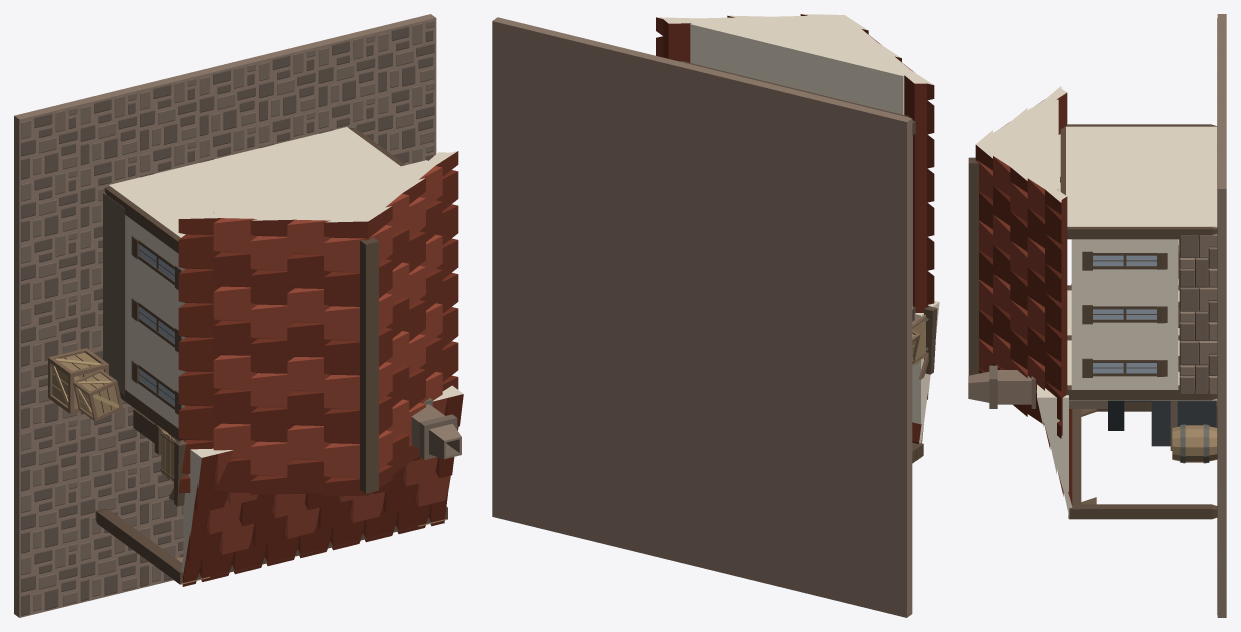
File: blacksmith.obj
The picture shows the model from 3 angles, left to right: view 1: azimuth 30°, elevation 25°; view 2: azimuth 150°, elevation 25°; view 3: azimuth 270°, elevation 25°; orthographic projection. The views are drawn at different scales.
Parts seen in each view (by area): view 1: Roof_Straight_Side_Eave_7, Roof_Straight_Side_Eave_5, Roof_Straight_Side_Eave_3, Roof_Straight_Side_Eave_1, Roof_Straight_Side_Eave_6, Roof_Straight_Side_Eave_8, Roof_Straight_Side_Eave_4, Roof_Straight_Side_Eave_2, Roof_Straight_Side_Eave_11, Stone_Floor_1_7, Roof_Straight_Side_Eave_9, Stone_Floor_1_55 (+53 smaller); view 2: Roof_Straight_Side_Eave_7, Roof_Straight_Side_Eave_6, Stone_Floor_1_7, Stone_Floor_1_0, Stone_Floor_1_1, Stone_Floor_1_2, Stone_Floor_1_3, Stone_Floor_1_4, Stone_Floor_1_5, Stone_Floor_1_6, Stone_Floor_1_15, Stone_Floor_1_31 (+50 smaller); view 3: Roof_Straight_Side_Eave_6, Stucco_Window_Single_Wide_4, Roof_Straight_Side_Eave_2, Roof_Straight_Side_Eave_4, Stucco_Window_Single_Wide_3, Stucco_Window_Single_Wide_5, Roof_Straight_Side_Eave_0, Roof_Straight_Side_Eave_7, Roof_Prop_Chimney_Stone_0, Wood_Post_Large_7, Stone_Wall_1_4, Roof_Straight_Side_Eave_11 (+36 smaller).
Boxes of the visible parts, x1,y1,x2,y2 form: Roof_Straight_Side_Eave_7: (178, 186, 368, 290); Roof_Straight_Side_Eave_5: (178, 286, 359, 359); Roof_Straight_Side_Eave_3: (178, 355, 359, 427); Roof_Straight_Side_Eave_1: (178, 423, 368, 496); Roof_Straight_Side_Eave_6: (320, 151, 458, 282); Roof_Straight_Side_Eave_8: (181, 448, 258, 586); Roof_Straight_Side_Eave_4: (379, 220, 458, 351); Roof_Straight_Side_Eave_2: (379, 288, 458, 419); Roof_Straight_Side_Eave_11: (379, 385, 463, 538); Stone_Floor_1_7: (14, 101, 78, 181); Roof_Straight_Side_Eave_9: (248, 494, 322, 570); Stone_Floor_1_55: (371, 14, 436, 94); Roof_Straight_Side_Eave_7: (796, 15, 934, 153); Roof_Straight_Side_Eave_6: (656, 14, 844, 88); Stone_Floor_1_7: (847, 104, 912, 183); Stone_Floor_1_0: (847, 541, 912, 617); Stone_Floor_1_1: (847, 479, 912, 555); Stone_Floor_1_2: (847, 418, 912, 493); Stone_Floor_1_3: (847, 356, 912, 431); Stone_Floor_1_4: (847, 294, 912, 369); Stone_Floor_1_5: (847, 232, 912, 307); Stone_Floor_1_6: (847, 170, 912, 245); Stone_Floor_1_15: (788, 89, 852, 169); Stone_Floor_1_31: (670, 60, 733, 140); Roof_Straight_Side_Eave_6: (975, 144, 1067, 261); Stucco_Window_Single_Wide_4: (1071, 287, 1178, 341); Roof_Straight_Side_Eave_2: (979, 265, 1067, 379); Roof_Straight_Side_Eave_4: (979, 206, 1067, 320); Stucco_Window_Single_Wide_3: (1071, 341, 1178, 389); Stucco_Window_Single_Wide_5: (1071, 239, 1178, 287); Roof_Straight_Side_Eave_0: (979, 324, 1067, 438); Roof_Straight_Side_Eave_7: (976, 86, 1067, 144); Roof_Prop_Chimney_Stone_0: (968, 365, 1107, 408); Wood_Post_Large_7: (1077, 504, 1217, 519); Stone_Wall_1_4: (1179, 287, 1217, 340); Roof_Straight_Side_Eave_11: (1037, 384, 1072, 519).
Size of the model in its own units: 7 by 8 by 4.37.
